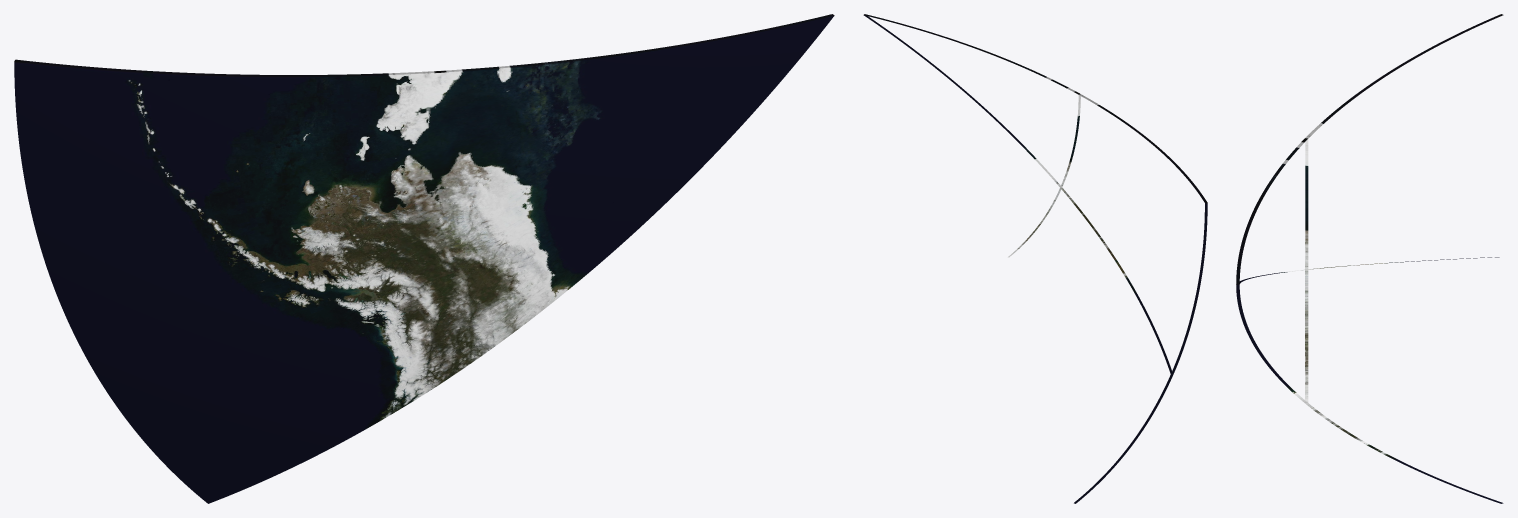
3 views of the same model, side by side, from view 1: azimuth 30°, elevation 25°; view 2: azimuth 150°, elevation 25°; view 3: azimuth 270°, elevation 25° (orthographic). The views are drawn at different scales.
Visible parts, largest first — view 1: DefaultName.003, DefaultName.006, DefaultName.012, DefaultName.009; view 2: DefaultName.006, DefaultName.003, DefaultName.009, DefaultName.012; view 3: DefaultName.006, DefaultName.003, DefaultName.012, DefaultName.009.
Boxes of the visible parts, bbox=[...] form: DefaultName.003: bbox=[14, 59, 461, 313]; DefaultName.006: bbox=[65, 210, 539, 503]; DefaultName.012: bbox=[434, 14, 834, 209]; DefaultName.009: bbox=[462, 16, 833, 312]; DefaultName.006: bbox=[1060, 187, 1172, 503]; DefaultName.003: bbox=[1079, 94, 1207, 374]; DefaultName.009: bbox=[864, 15, 1061, 257]; DefaultName.012: bbox=[864, 14, 1080, 187]; DefaultName.006: bbox=[1305, 257, 1503, 503]; DefaultName.003: bbox=[1305, 14, 1503, 269]; DefaultName.012: bbox=[1236, 138, 1307, 284]; DefaultName.009: bbox=[1236, 269, 1307, 403].
Size of the model in its own units: 45176 by 31944 by 18870.
4 materials, 4 textured.
